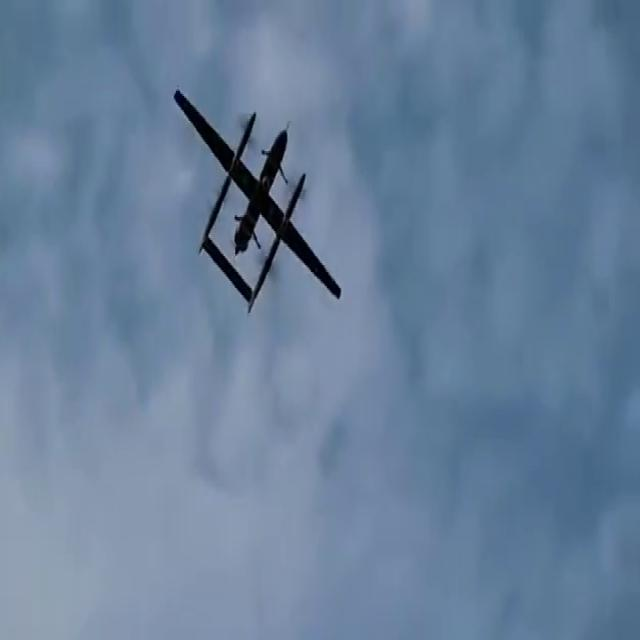iha: (172, 84, 348, 306)
